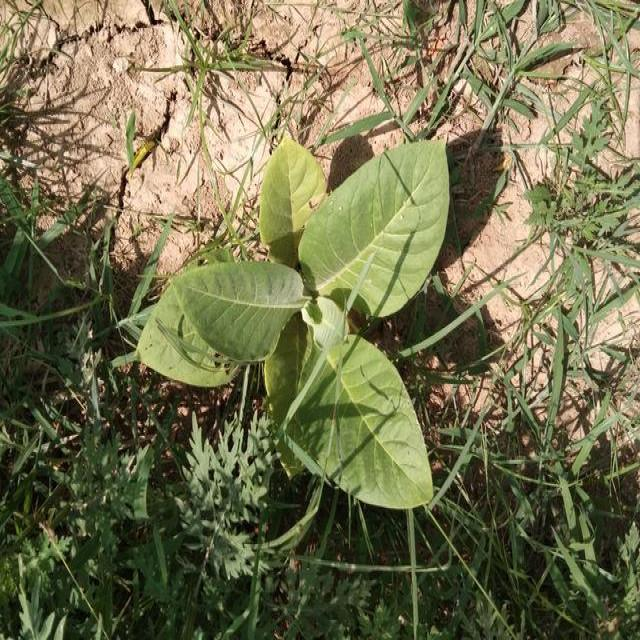crop: (136, 120, 448, 512)
